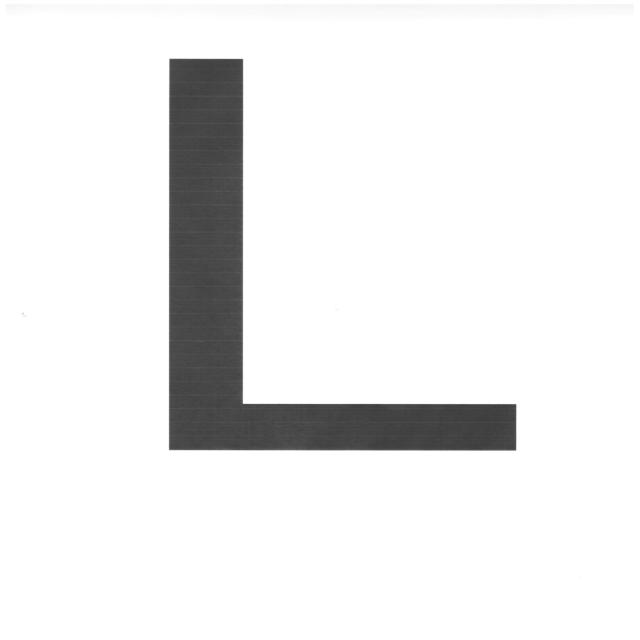l: (126, 38, 559, 485)
